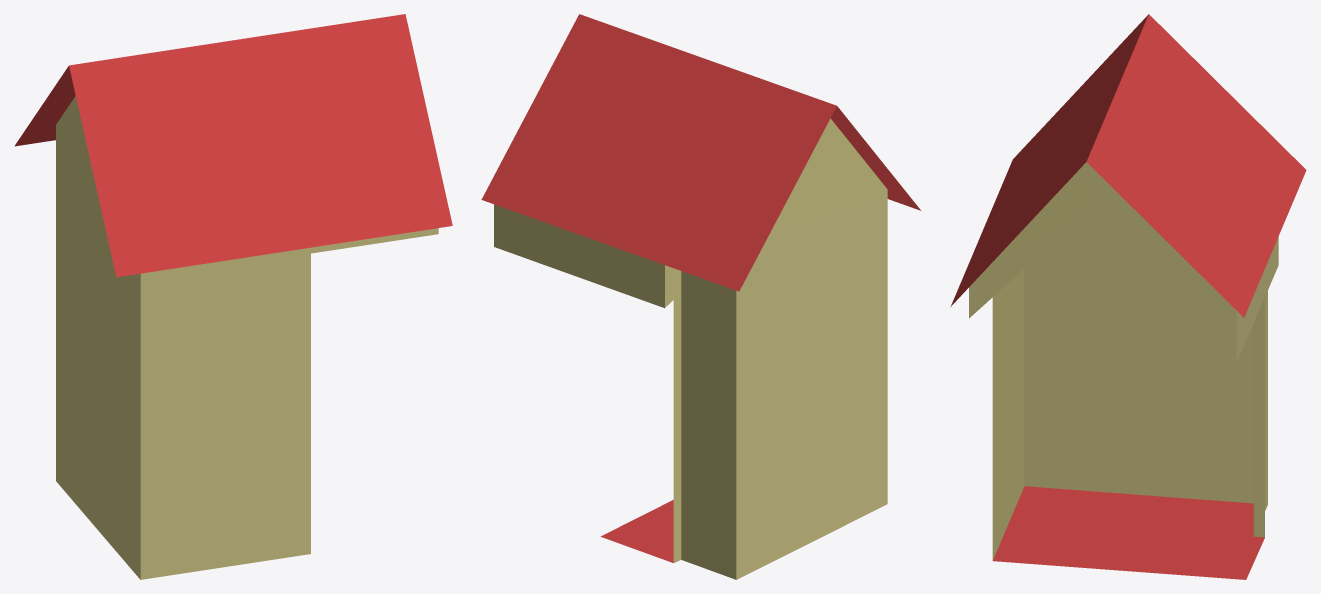
3 renders of one model, left to right at view 1: azimuth 30°, elevation 25°; view 2: azimuth 150°, elevation 25°; view 3: azimuth 270°, elevation 25°, orthographic. The views are drawn at different scales.
Size of the model in its own units: 10.63 by 9.4 by 13.63.
